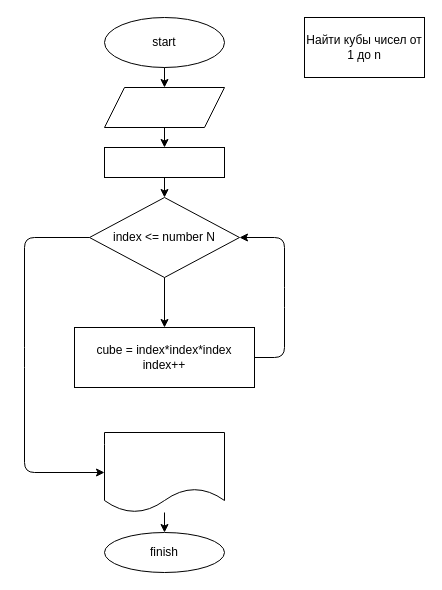
Image size: 442x590. Some labels were removed from this diagram. The box of each missing label's shape, as (x1, y1, x2, y2) in pixels:
cube: (104, 432, 224, 512)
index = 1: (104, 146, 224, 178)
numberN: (104, 86, 224, 128)
